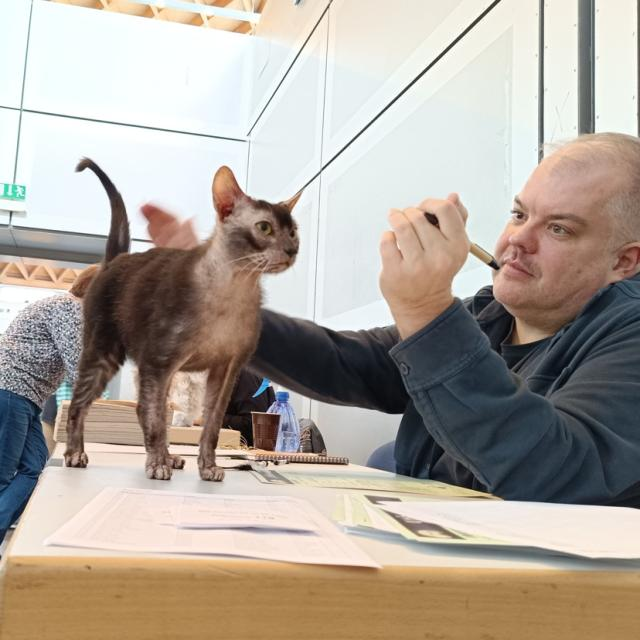Lykoi: (59, 151, 306, 485)
